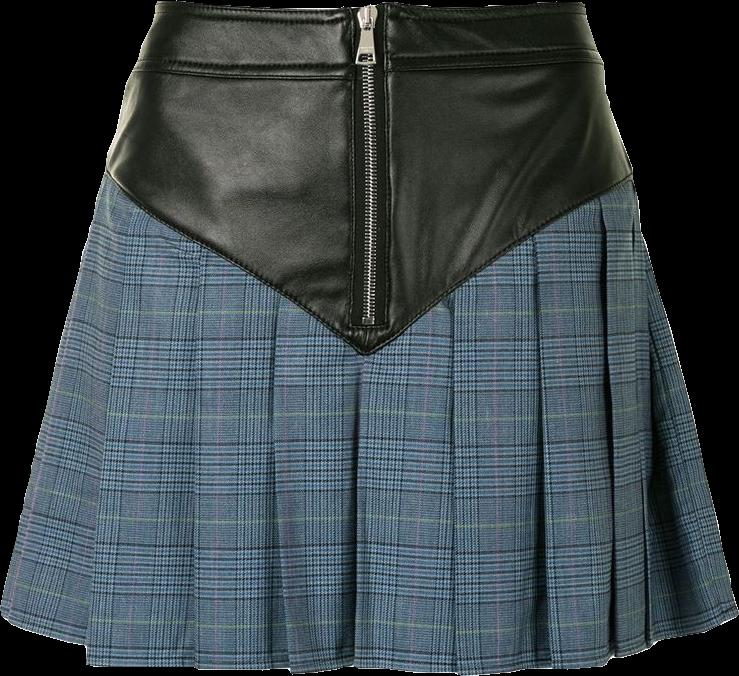Hemline: (0, 602, 738, 675)
Waistline: (101, 159, 634, 357), (129, 57, 607, 76), (152, 0, 586, 12)
